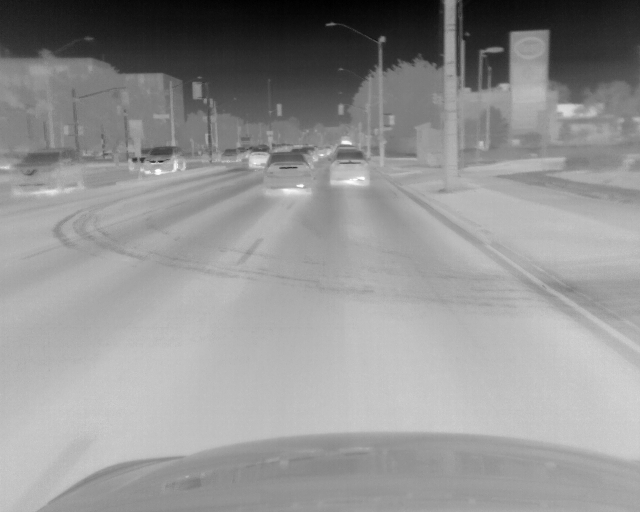car: (12, 148, 85, 197), (264, 151, 313, 192), (327, 150, 370, 189), (138, 146, 187, 177), (220, 149, 243, 166), (248, 151, 268, 169), (333, 143, 360, 156), (302, 146, 319, 161)
